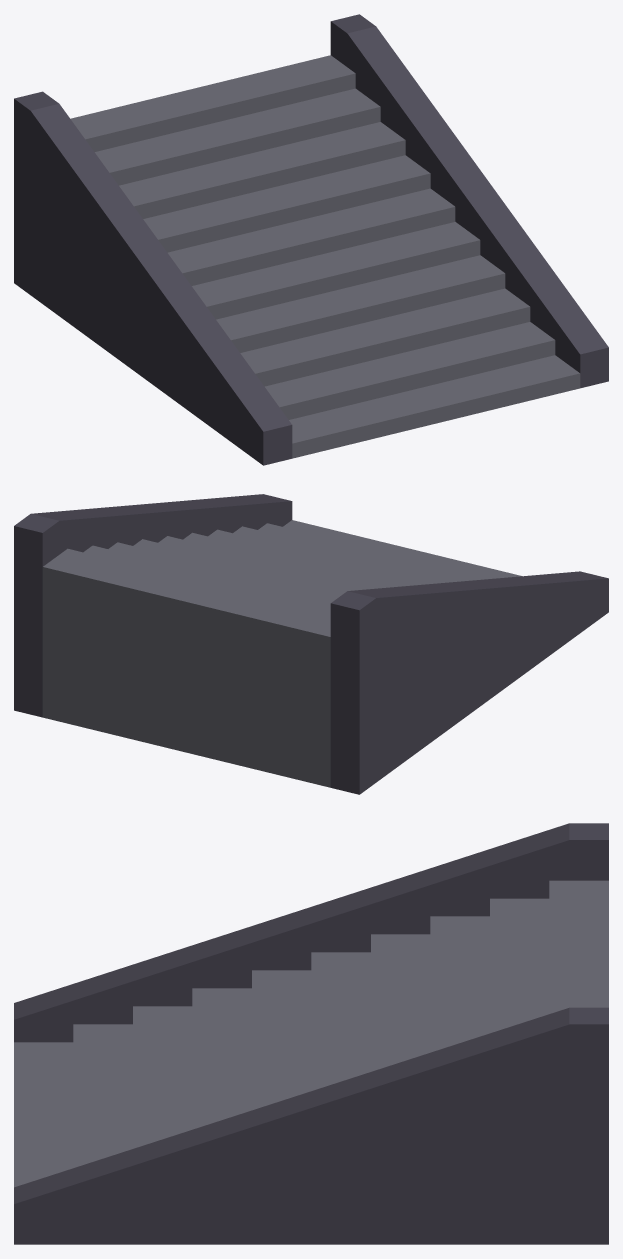
Rendered from stairs_long.fbx.
The picture shows the model from 3 angles, top to bottom: view 1: azimuth 30°, elevation 25°; view 2: azimuth 150°, elevation 25°; view 3: azimuth 270°, elevation 25°; orthographic projection. The views are drawn at different scales.
Parts seen in each view (by area): view 1: stairs_long; view 2: stairs_long; view 3: stairs_long.
Part boxes in pixels (<box>): stairs_long: <box>14,14,608,465</box>; stairs_long: <box>14,494,608,794</box>; stairs_long: <box>14,823,608,1244</box>.
Size of the model in its own units: 4.8 by 2.45 by 6.
